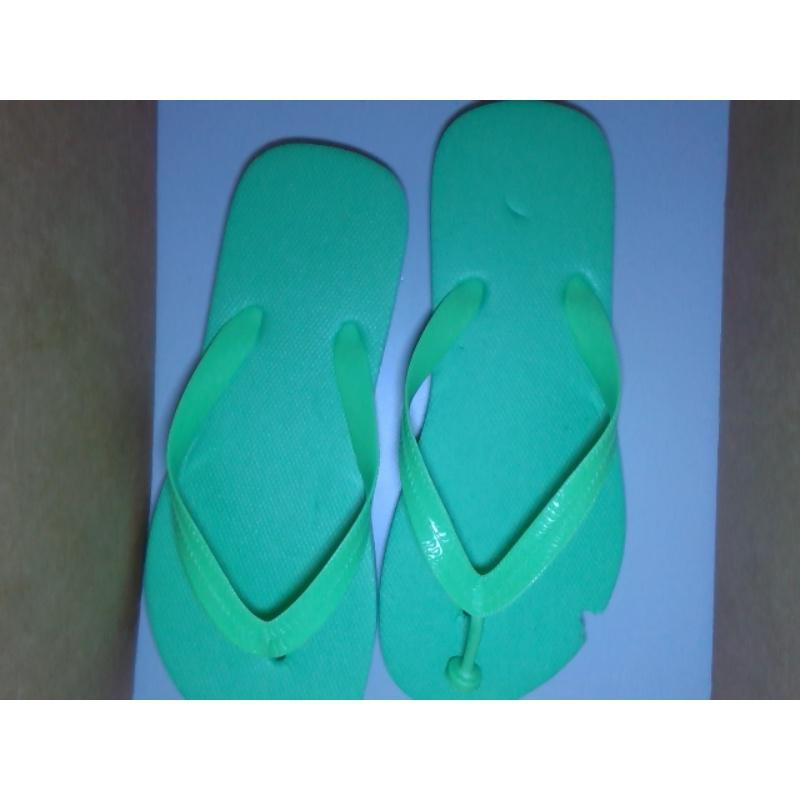chipped: (570, 595, 615, 661)
detached: (434, 643, 490, 695)
